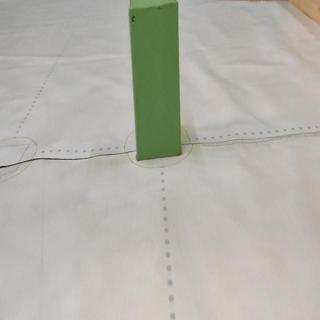greenbox: (129, 1, 186, 160)
